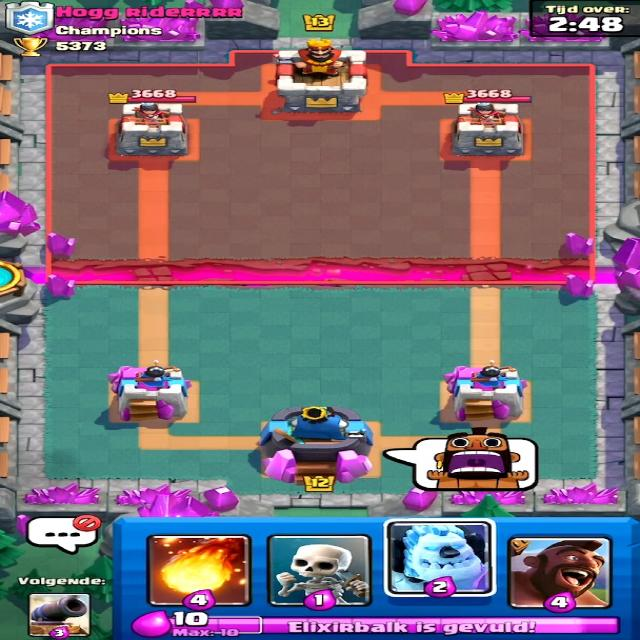Fireball_Card: (148, 532, 250, 607)
Hog_Rider_Card: (506, 535, 612, 610)
Ice_Golem_Card: (379, 520, 492, 592)
Skeleton_Card: (271, 538, 364, 606)
